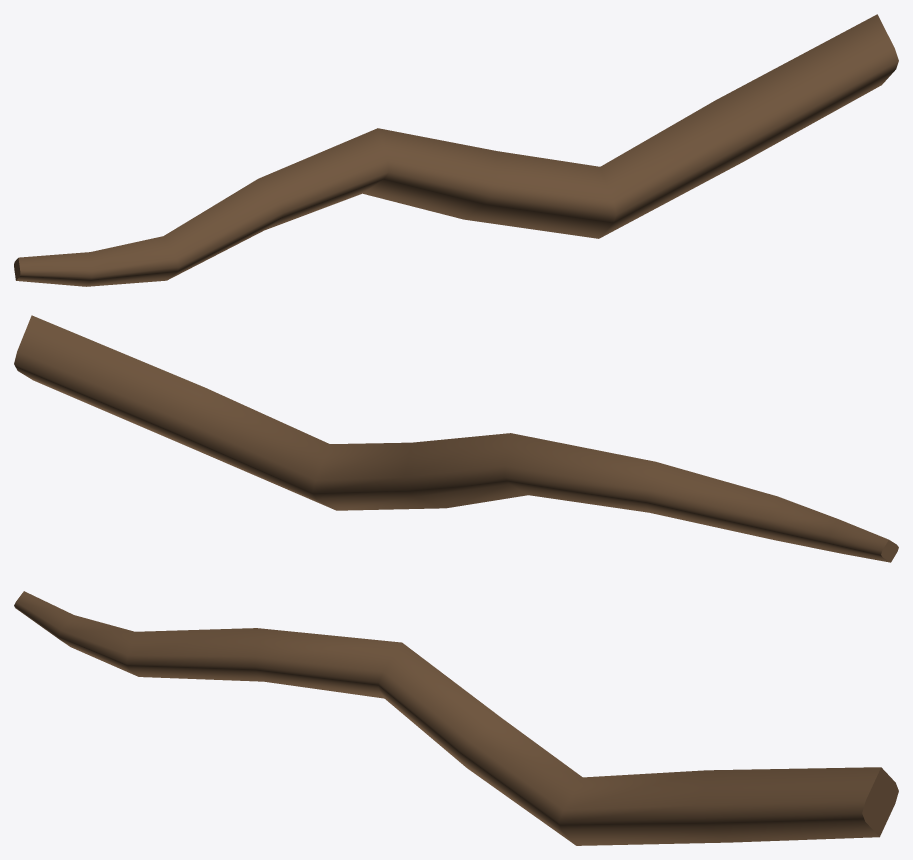
The model's file is SM_Skyisland_Root_Var7.fbx.
3 renders of one model, top to bottom at view 1: azimuth 30°, elevation 25°; view 2: azimuth 150°, elevation 25°; view 3: azimuth 330°, elevation 25°, orthographic. The views are drawn at different scales.
Visible parts, largest first — view 1: BezierCurve.069; view 2: BezierCurve.069; view 3: BezierCurve.069.
Part boxes in pixels (x1,y1,x2,y2): BezierCurve.069: (14,14,898,286); BezierCurve.069: (14,315,898,562); BezierCurve.069: (14,591,898,845).
Bounding box in the file's own units: 530 × 83.44 × 61.38.
